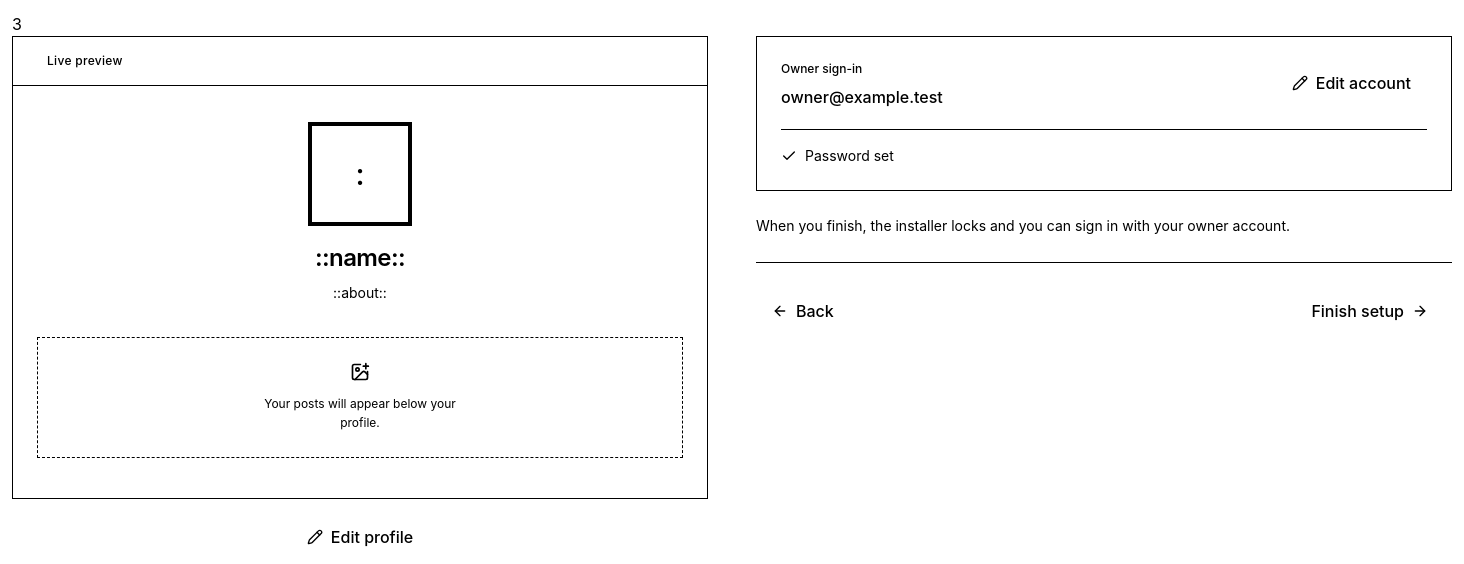
Test: ReviewStep › Given Edit account, should return to step 2
Expected: the text "owner@example.test" is shown, [781, 85, 943, 109]
Click the button "Edit account".
click(1351, 83)  # box [1276, 61, 1427, 105]
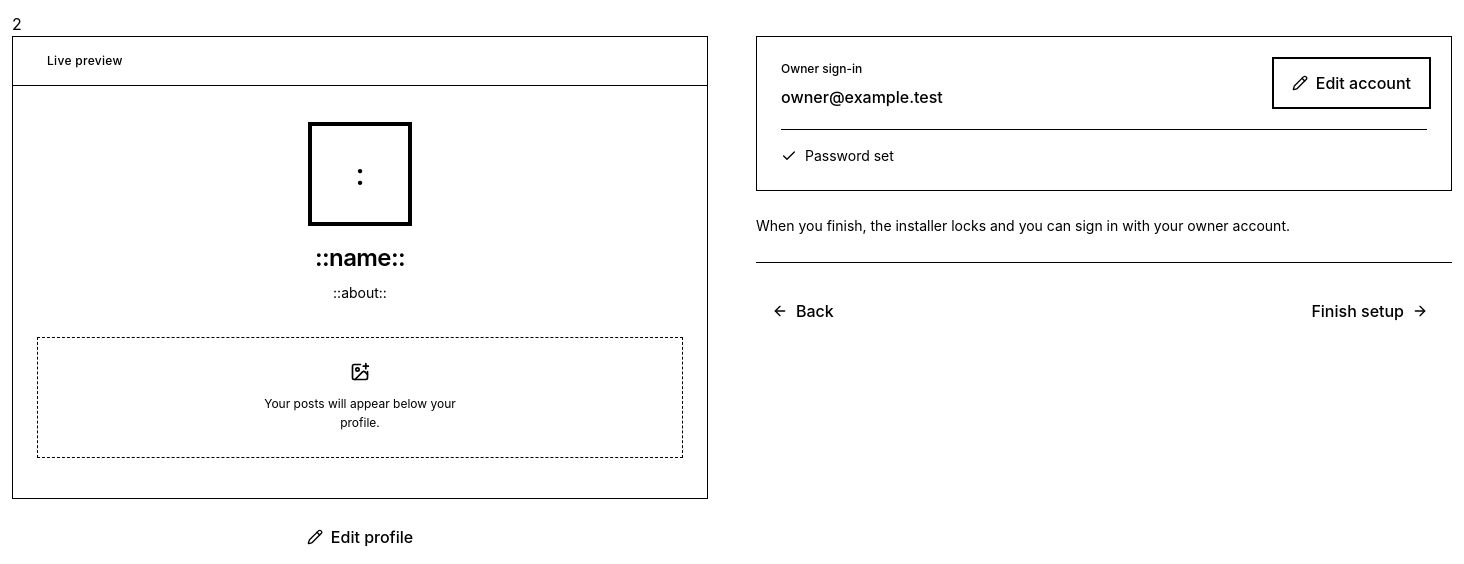
Result: the text with test id "step" reads "2" at [12, 14, 22, 34]
